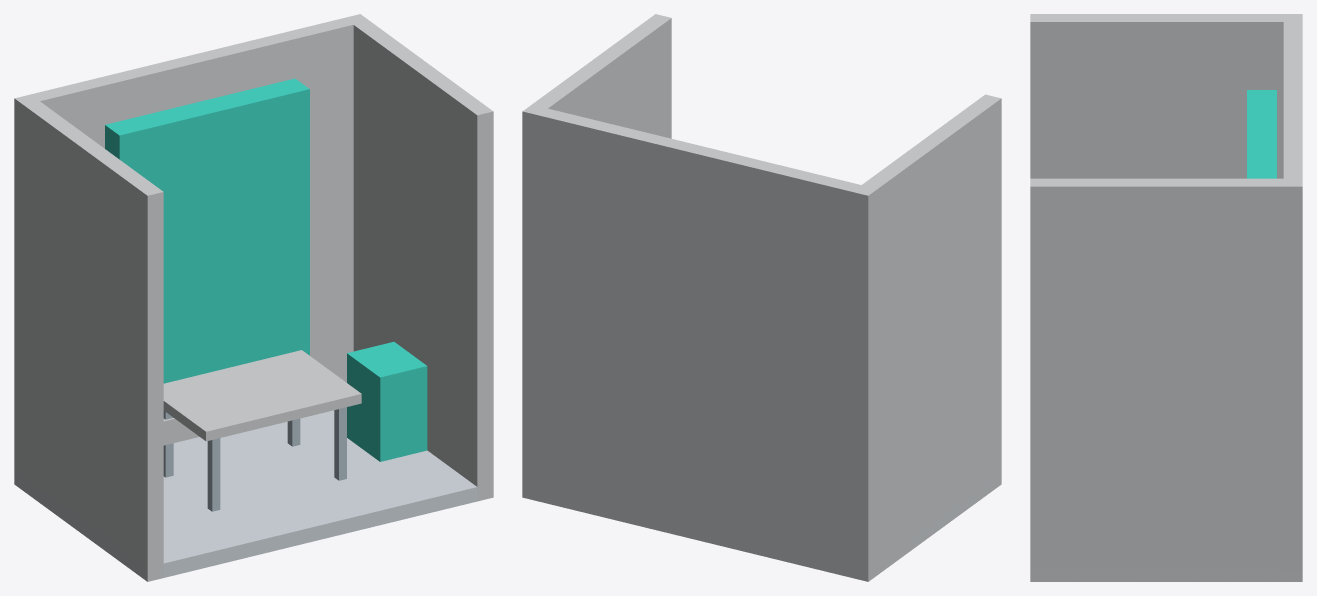
3 renders of one model, left to right at view 1: azimuth 30°, elevation 25°; view 2: azimuth 150°, elevation 25°; view 3: azimuth 270°, elevation 25°, orthographic. The views are drawn at different scales.
Visible parts, largest first — view 1: Exhibition Booth Concept; view 2: Exhibition Booth Concept; view 3: Exhibition Booth Concept.
Boxes of the visible parts, x1,y1,x2,y2 form: Exhibition Booth Concept: (14, 14, 493, 581); Exhibition Booth Concept: (522, 14, 1001, 581); Exhibition Booth Concept: (1030, 14, 1302, 581).
Size of the model in its own units: 3 by 3.2 by 2.
